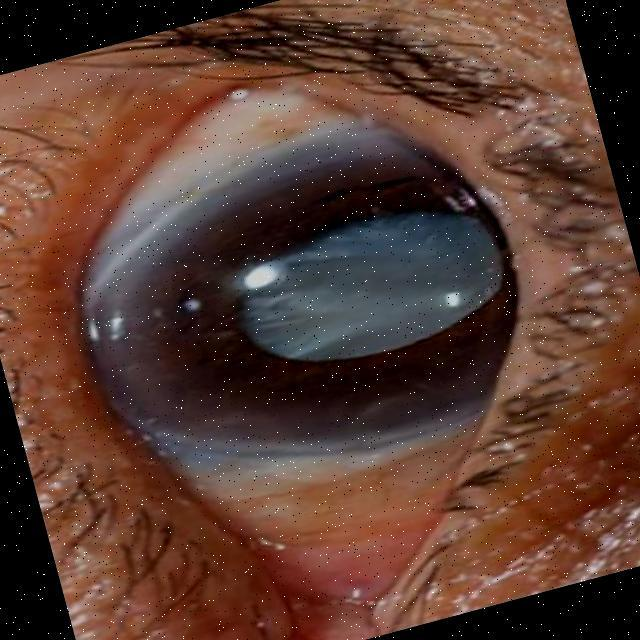Cataract: (46, 61, 604, 564)
